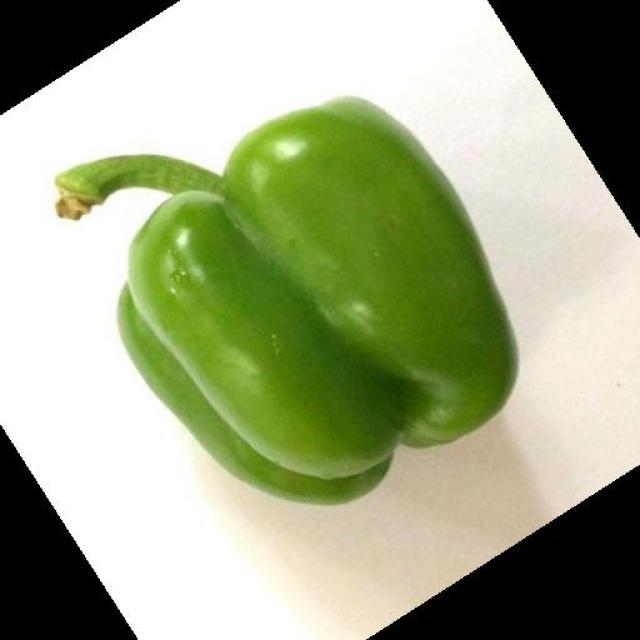Fresh_Capsicum: (60, 139, 550, 499)
